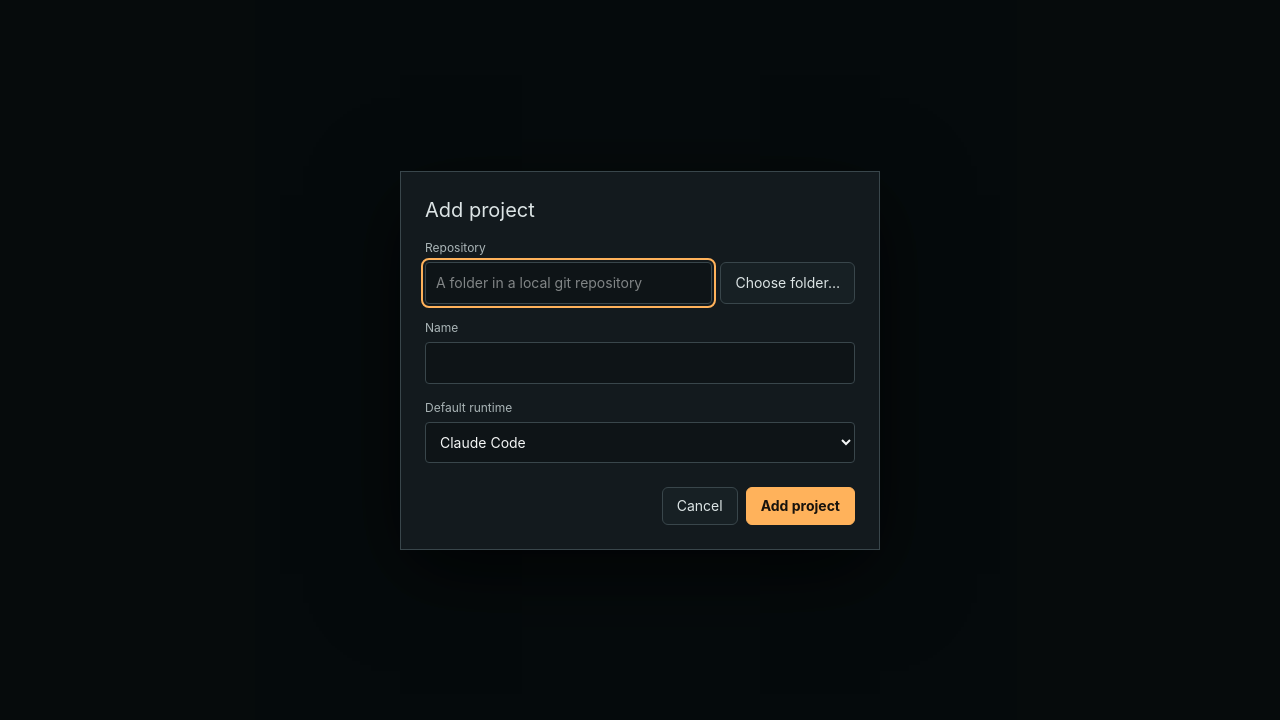
Test: AddProjectDialog › fills the form from the chosen folder's repository and connects it
Later steps or results of the test are not shown.
Click the button "Choose folder…".
click(788, 282)  # box left=720, top=262, right=855, bottom=304
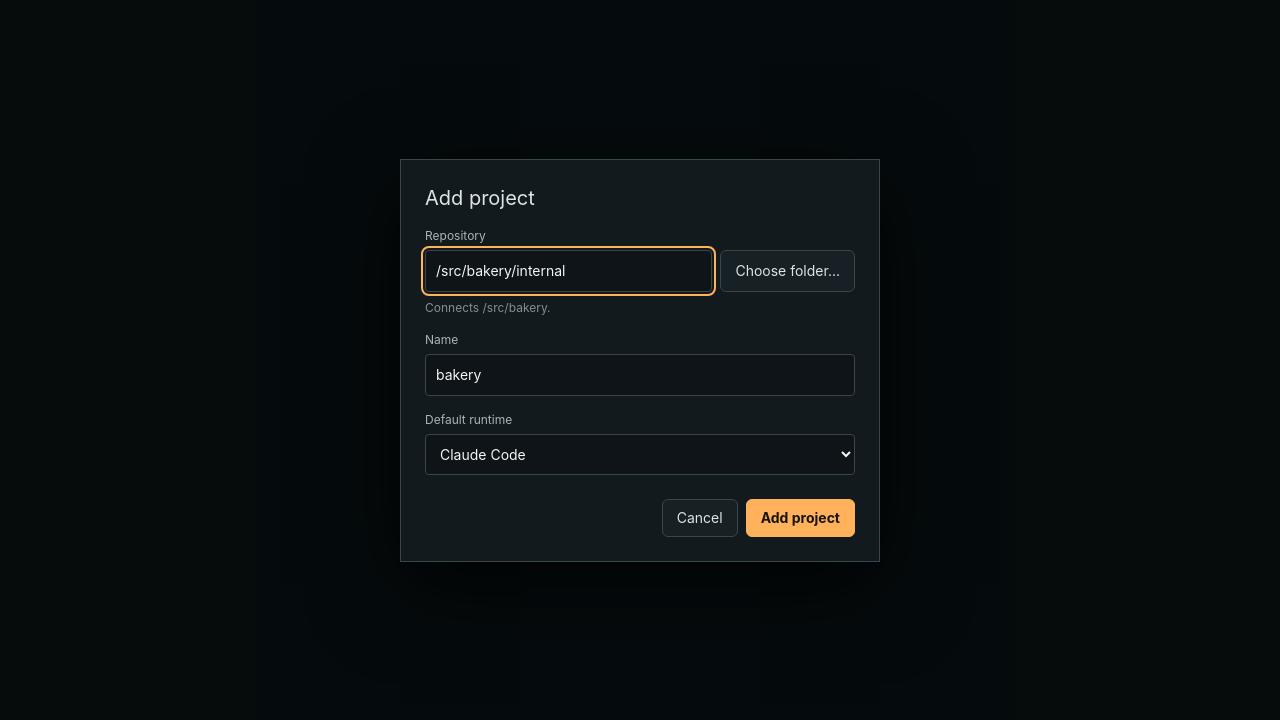
Check: the dropdown labelled "Default runtime" shows "Claude Code", box left=425, top=434, right=855, bottom=474
Check: the message reads "Connects /src/bakery.", box left=425, top=300, right=551, bottom=314
Check: the field labelled "Name" holds "bakery", box left=425, top=354, right=855, bottom=396
